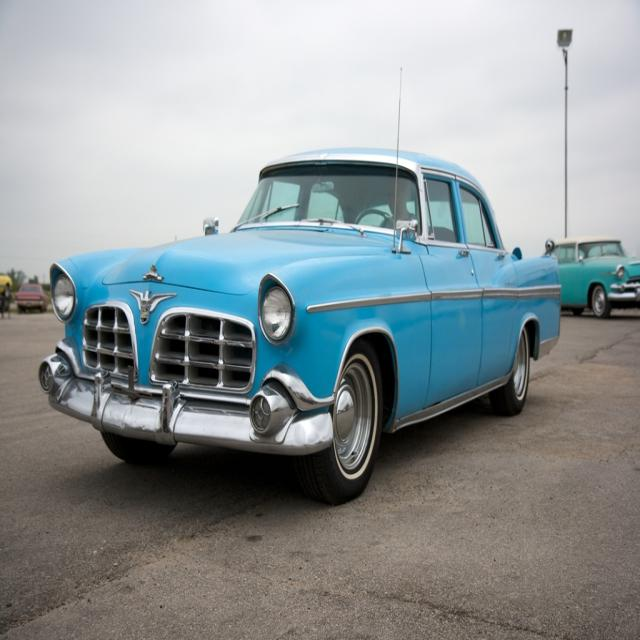car: (37, 139, 568, 508), (14, 276, 47, 306)
